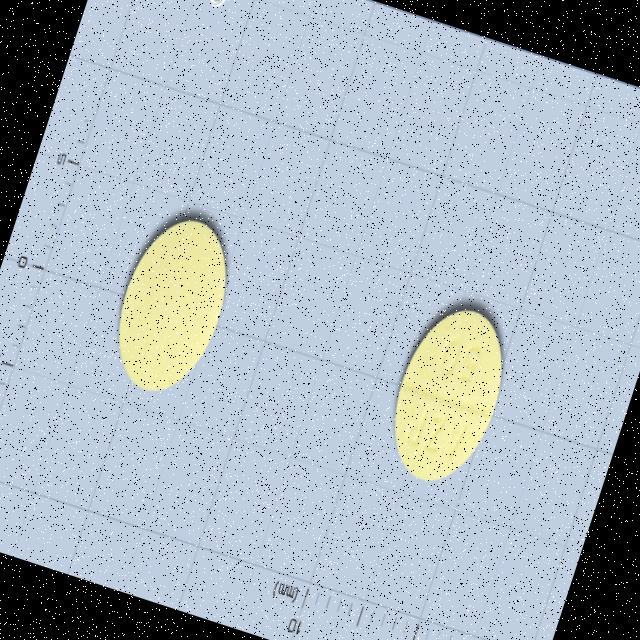Teva Azathioprine Tab: (97, 206, 246, 406), (375, 296, 521, 494)
